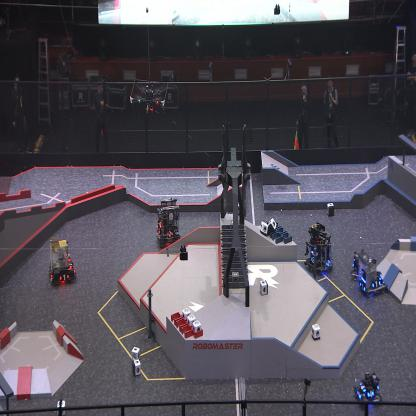car: (305, 222, 333, 274), (48, 235, 76, 286), (357, 251, 386, 298), (156, 198, 181, 248), (354, 371, 382, 406), (352, 249, 368, 281)
